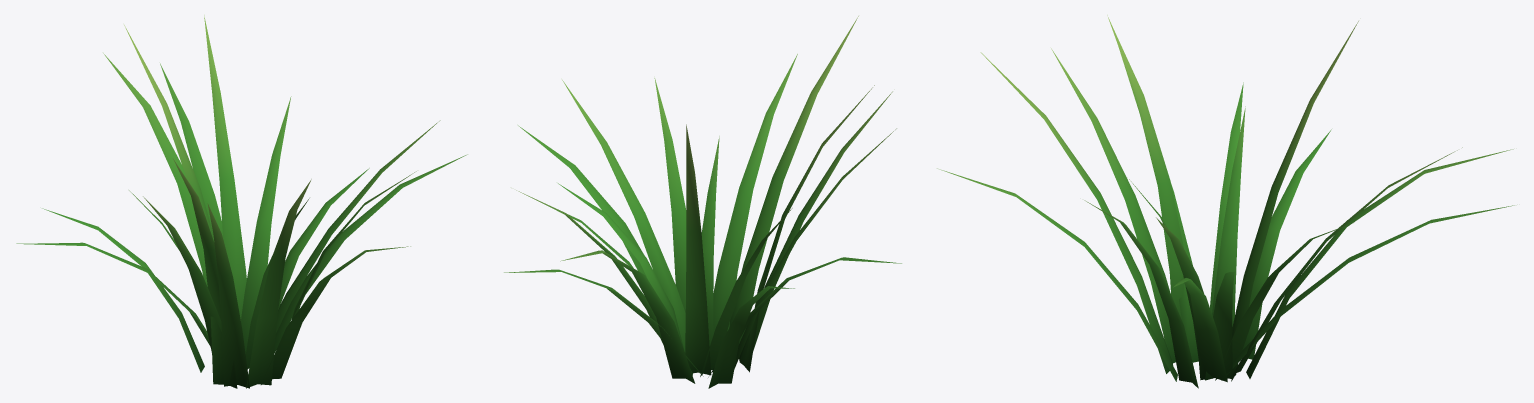
Rendered from grass_tuft.glb.
3 renders of one model, left to right at view 1: azimuth 30°, elevation 25°; view 2: azimuth 150°, elevation 25°; view 3: azimuth 270°, elevation 25°, orthographic. The views are drawn at different scales.
Visible parts, largest first — view 1: grass_tuft; view 2: grass_tuft; view 3: grass_tuft.
Part boxes in pixels (x1,y1,x2,y2): grass_tuft: (16, 15, 467, 388); grass_tuft: (504, 16, 901, 388); grass_tuft: (937, 15, 1514, 388).
Size of the model in its own units: 0.6277 by 0.4406 by 0.7112.
